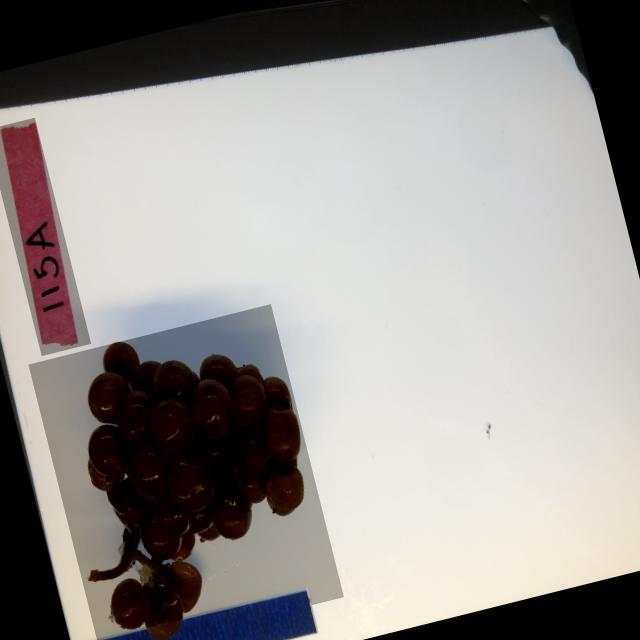grape_cluster: (28, 302, 344, 640)
index: (0, 116, 90, 354)
measure_label: (84, 586, 318, 640)
